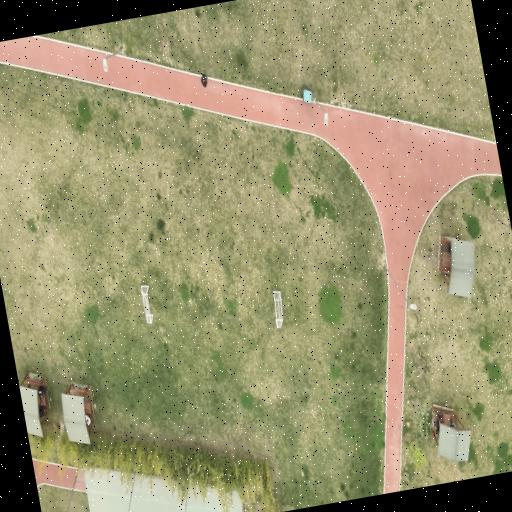person: (36, 385, 44, 402), (38, 404, 45, 417), (200, 73, 206, 86), (84, 413, 90, 425), (435, 419, 439, 435), (449, 419, 455, 428)
